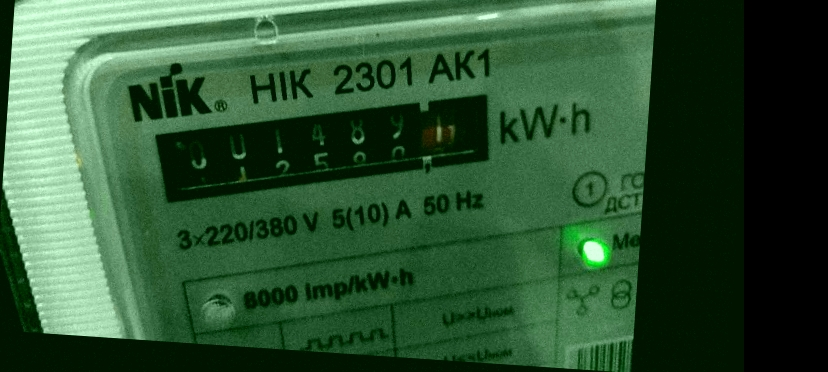0: (223, 125, 251, 162), (184, 136, 210, 172)
1: (427, 106, 449, 145), (267, 124, 289, 156)
4: (306, 116, 330, 149)
8: (346, 111, 369, 148)
9: (385, 107, 407, 141)
screen: (138, 61, 522, 237)
